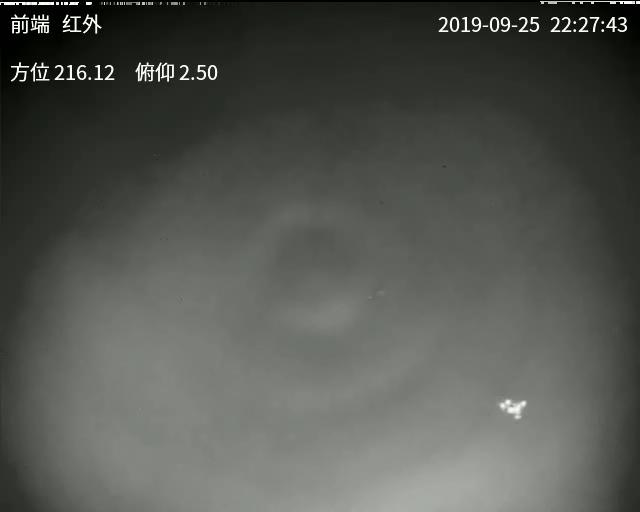uav: (504, 394, 537, 424)
